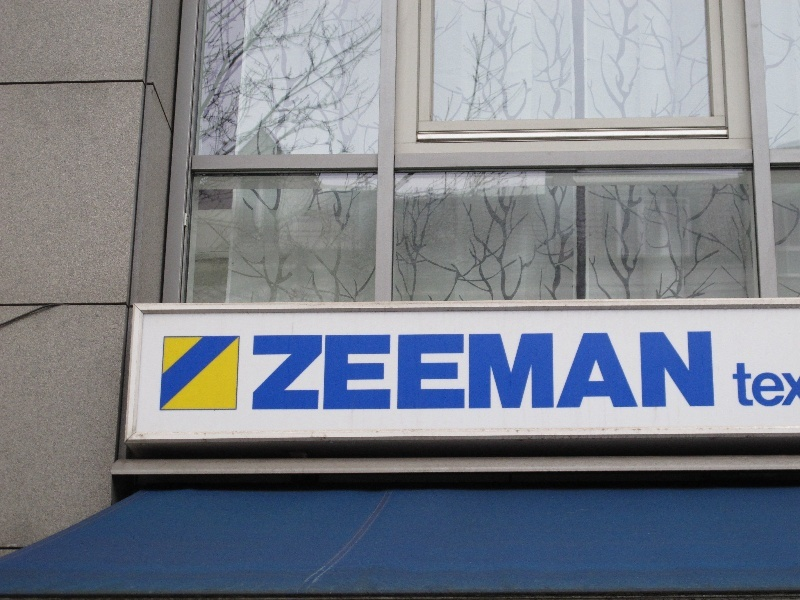text: (257, 331, 272, 413), (273, 331, 288, 413), (289, 331, 304, 413), (305, 331, 320, 413), (321, 331, 336, 413), (337, 331, 352, 413), (353, 331, 368, 413), (369, 331, 384, 413), (385, 331, 400, 413), (401, 331, 416, 413), (417, 331, 432, 413), (433, 331, 448, 413), (449, 331, 464, 413), (465, 331, 480, 413), (481, 331, 496, 413), (497, 331, 512, 413), (513, 331, 528, 413), (529, 331, 544, 413), (545, 331, 560, 413), (561, 331, 576, 413), (577, 331, 592, 413), (593, 331, 608, 413), (609, 331, 624, 413), (625, 331, 640, 413), (641, 331, 656, 413), (657, 331, 672, 413), (673, 331, 688, 413), (689, 331, 704, 413), (705, 331, 717, 413), (737, 361, 752, 409), (753, 361, 768, 409), (769, 361, 784, 409), (785, 361, 800, 409), (252, 331, 256, 413), (732, 361, 736, 409)
